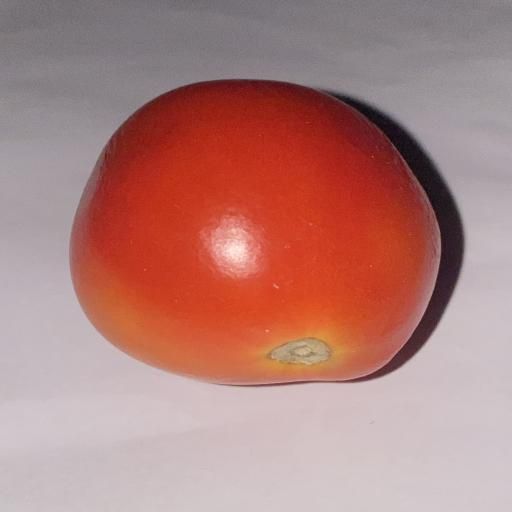ripe: (71, 80, 440, 384)
